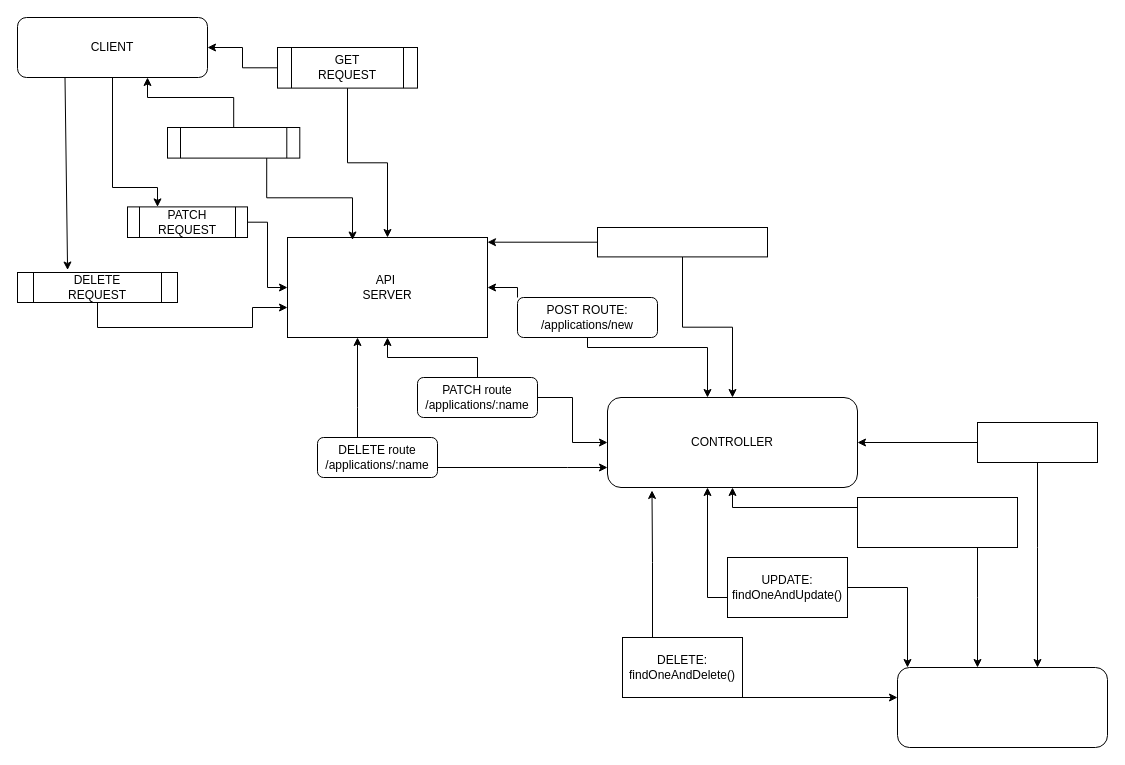
Image size: 1125x765. Some labels were removed from this diagram. Here are the shapes that lost their labels. From the top down, the box of each, then its label:
(166, 126, 300, 158): POST REQUEST
(596, 226, 768, 257): GET route: /applications
(976, 422, 1098, 462): READ: applications.find()
(856, 496, 1018, 548): CREATE: new Applications {} (schema)
(896, 666, 1108, 748): DATABASE
